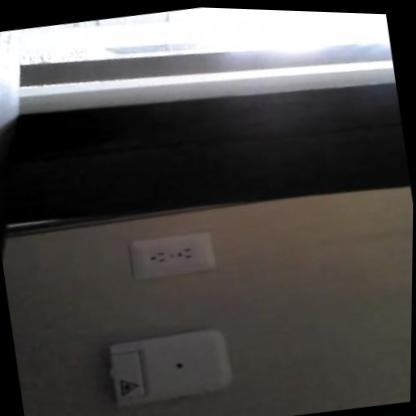OUTLET: (127, 227, 217, 283)
